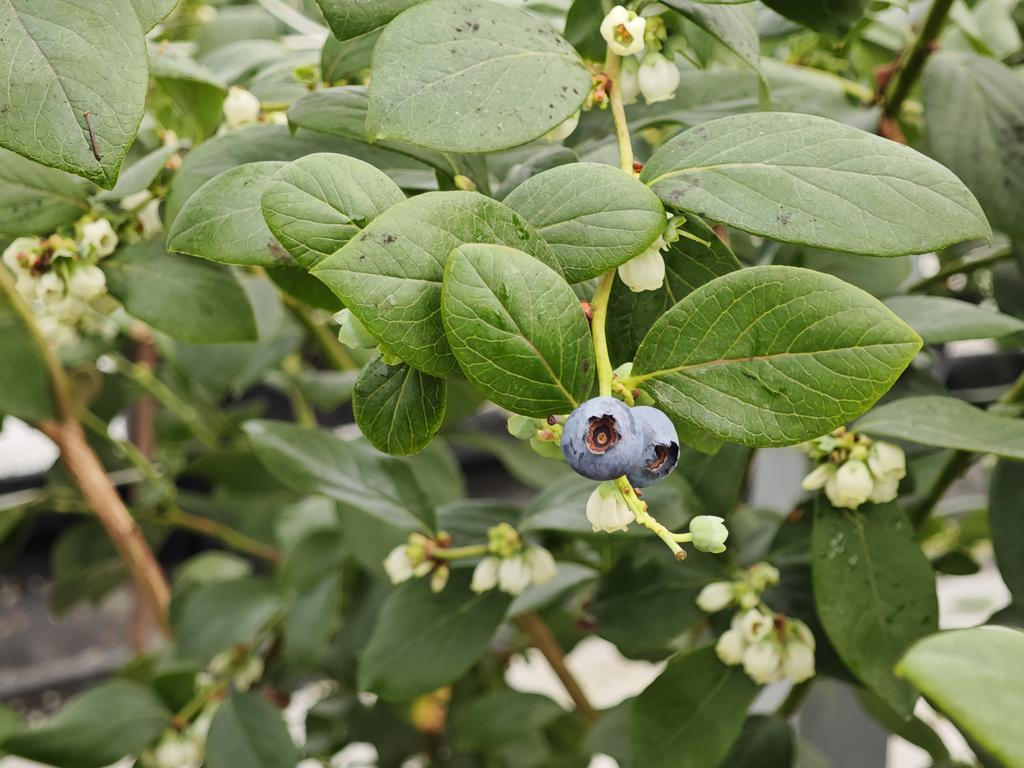RipeBlueBerry: (561, 395, 646, 482), (628, 404, 684, 487)
